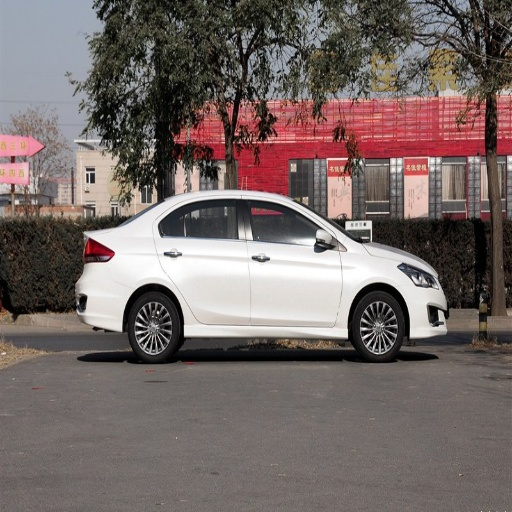back_right_door: (157, 197, 250, 323)
front_right_door: (244, 198, 342, 325)
